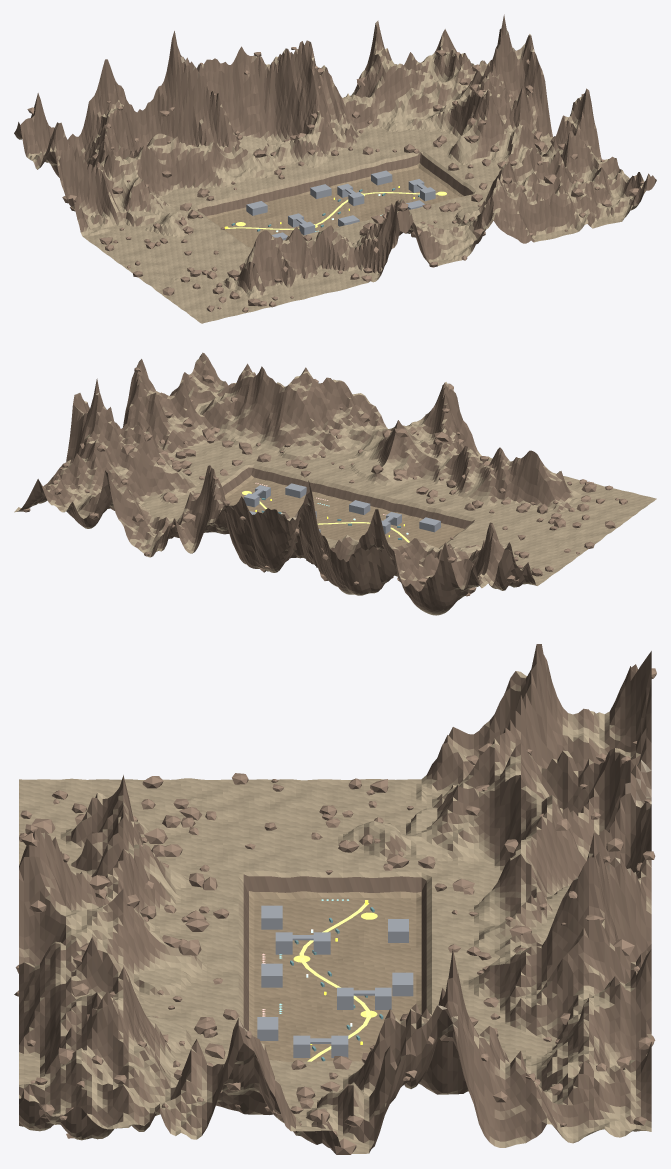
File: supply_line.glb
3 views of the same model, one above another, from view 1: azimuth 30°, elevation 25°; view 2: azimuth 150°, elevation 25°; view 3: azimuth 270°, elevation 25° (orthographic). The views are drawn at different scales.
Visible parts, largest first — view 1: terrain; view 2: terrain; view 3: terrain.
Boxes of the visible parts, x1,y1,x2,y2 form: terrain: [14, 14, 656, 323]; terrain: [14, 352, 656, 615]; terrain: [19, 644, 651, 1153].
Size of the model in its own units: 424 by 114 by 305.
